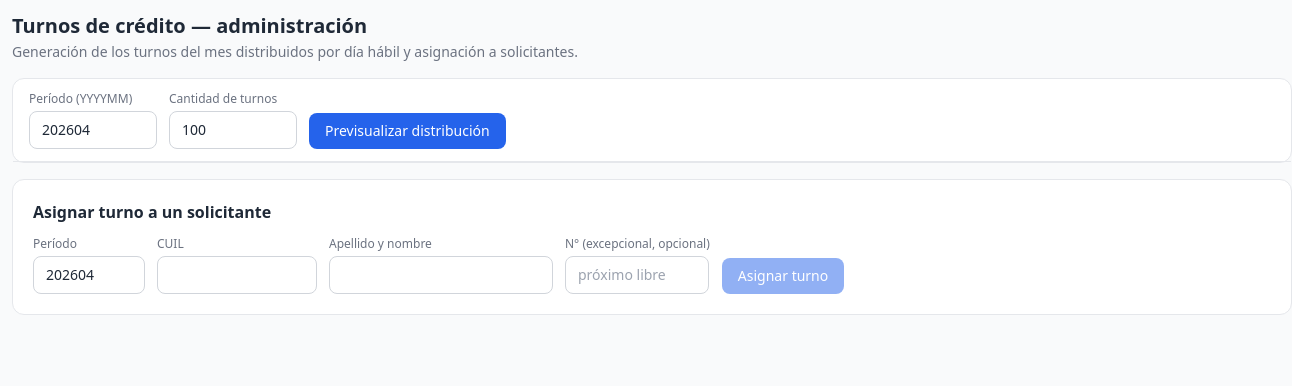
Test: Turnos de crédito · asignación › si el turno pedido no está disponible lo informa
Type "20301234567" into the field labelled "CUIL".
click(237, 275); type("20301234567")  # box 157,256 -> 317,294
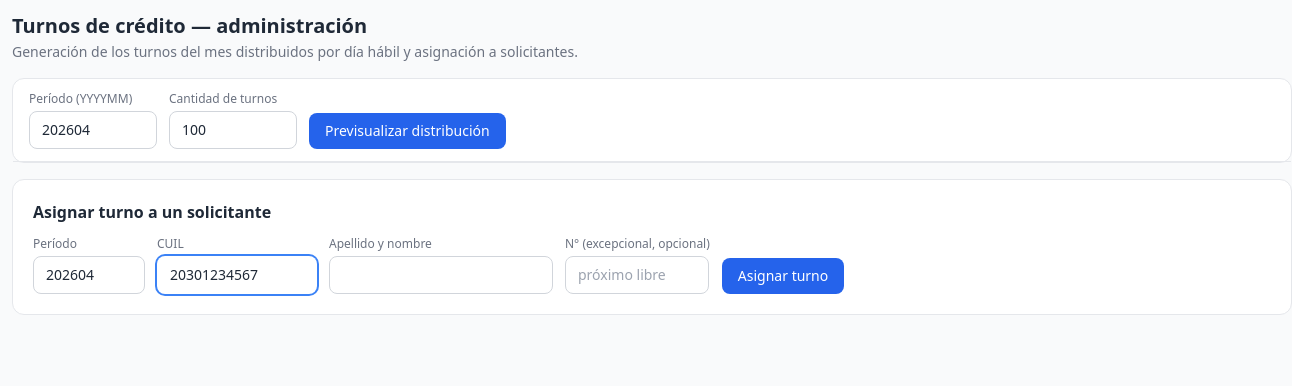
Type "17" into the field labelled "N° (excepcional, opcional)".
click(637, 275); type("17")  # box 565,256 -> 709,294
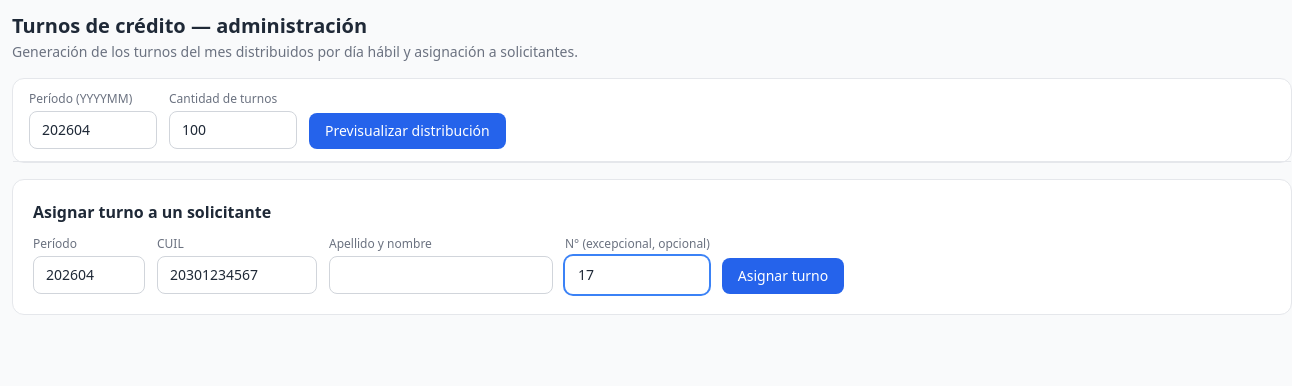
Click the button "Asignar turno".
click(783, 276)  # box 722,258 -> 844,294
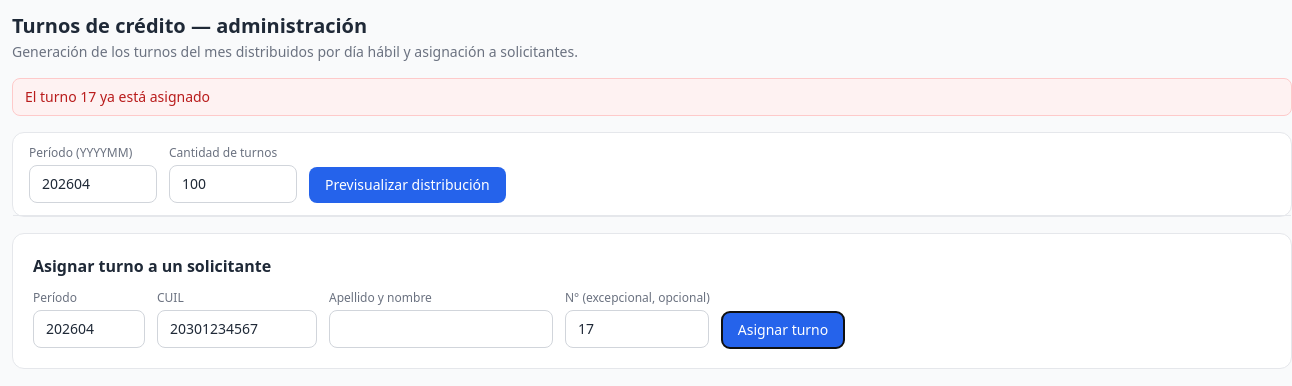
Now the text "El turno 17 ya está asignado" is shown, box 12,78 -> 1291,116
